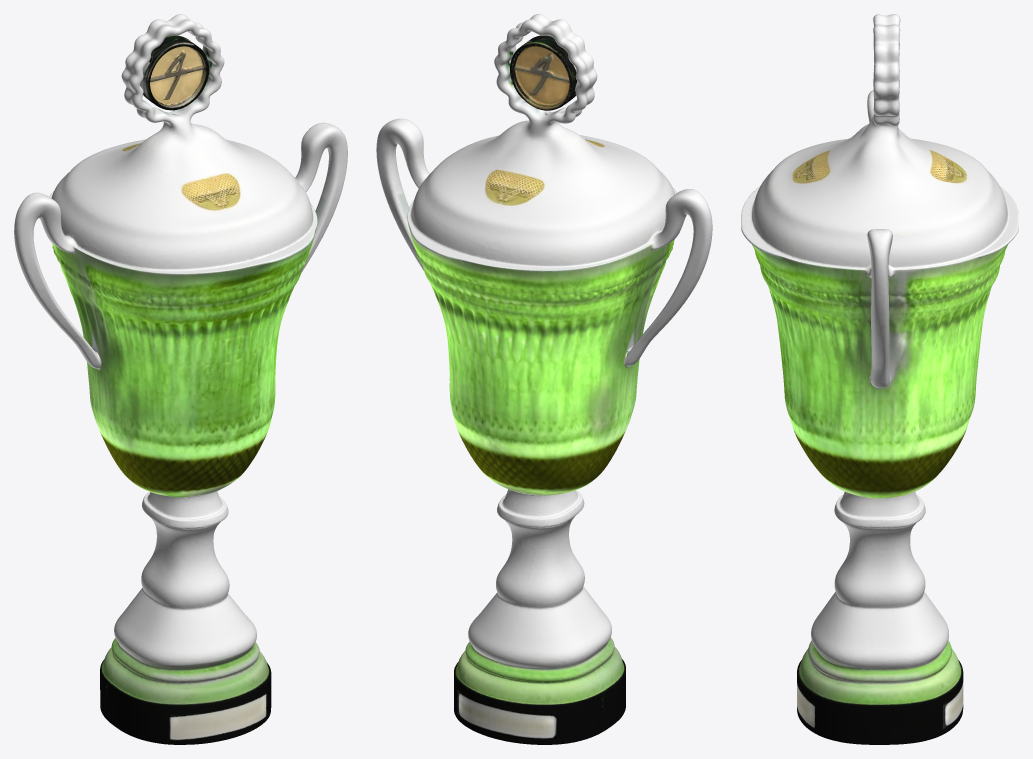
Rendered from nzHeartland.glb.
The picture shows the model from 3 angles, left to right: view 1: azimuth 30°, elevation 25°; view 2: azimuth 150°, elevation 25°; view 3: azimuth 270°, elevation 25°; orthographic projection.
Parts seen in each view (by area): view 1: mesh_node; view 2: mesh_node; view 3: mesh_node.
Part boxes in pixels (x1,y1,x2,y2): mesh_node: [14, 14, 347, 744]; mesh_node: [376, 14, 712, 744]; mesh_node: [741, 14, 1018, 744].
Size of the model in its own units: 0.9556 by 1.9 by 0.6963.
Materials: 1 (1 with a texture image).
